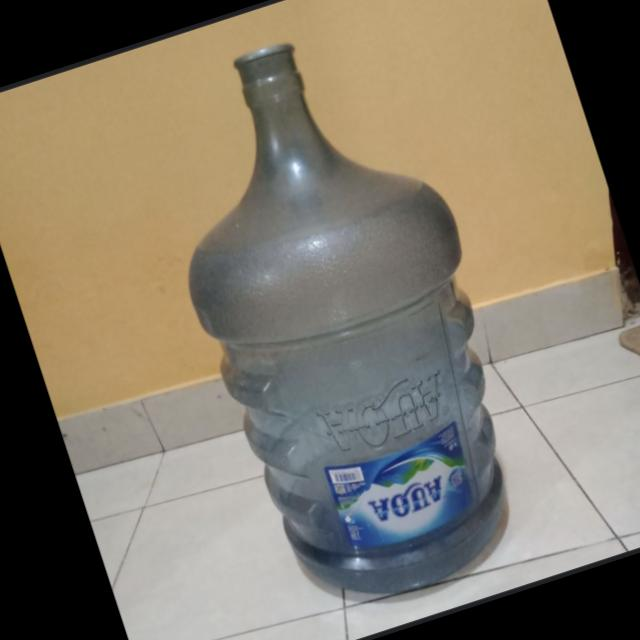Galon: (122, 6, 562, 630)
